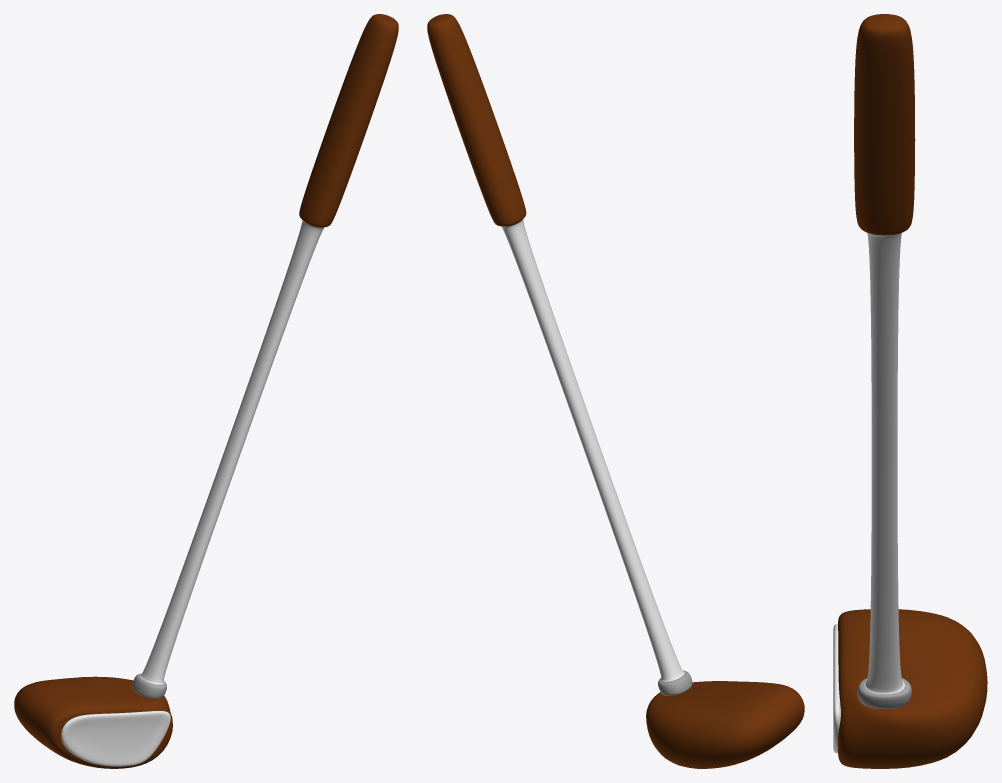
File: golf stick.gltf
The picture shows the model from 3 angles, left to right: view 1: azimuth 30°, elevation 25°; view 2: azimuth 150°, elevation 25°; view 3: azimuth 270°, elevation 25°; orthographic projection. The views are drawn at different scales.
Visible parts, largest first — view 1: Palo_3; view 2: Palo_3; view 3: Palo_3.
Part boxes in pixels (x1,y1,x2,y2): Palo_3: (14,14,398,768); Palo_3: (427,14,804,768); Palo_3: (833,14,987,768).
Bounding box in the file's own units: 0.0308 × 0.0549 × 0.00836.
